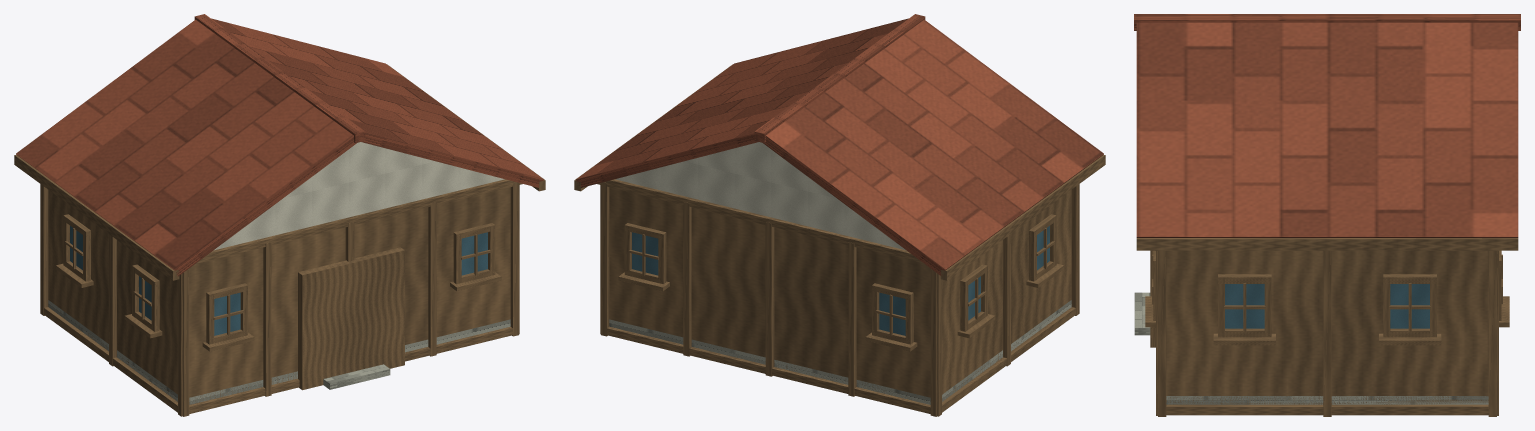
The picture shows the model from 3 angles, left to right: view 1: azimuth 30°, elevation 25°; view 2: azimuth 150°, elevation 25°; view 3: azimuth 270°, elevation 25°; orthographic projection. The views are drawn at different scales.
Visible parts, largest first — view 1: house-wood, house-roof, house-plaster, house-stone, house-glass; view 2: house-wood, house-roof, house-plaster, house-stone, house-glass; view 3: house-roof, house-wood, house-stone, house-glass.
Boxes of the visible parts, x1,y1,x2,y2 form: house-wood: [14, 64, 545, 416]; house-roof: [16, 14, 543, 276]; house-plaster: [214, 142, 504, 250]; house-stone: [48, 300, 510, 404]; house-glass: [70, 226, 487, 335]; house-wood: [574, 64, 1105, 416]; house-roof: [576, 14, 1103, 275]; house-plaster: [615, 142, 905, 250]; house-stone: [609, 300, 1071, 404]; house-glass: [632, 226, 1049, 335]; house-roof: [1134, 14, 1520, 237]; house-wood: [1136, 238, 1518, 416]; house-stone: [1134, 292, 1488, 404]; house-glass: [1225, 284, 1429, 328].
Bounding box in the file's own units: 10.18 × 6.52 × 7.6.
Materials: 5 (5 with a texture image).
